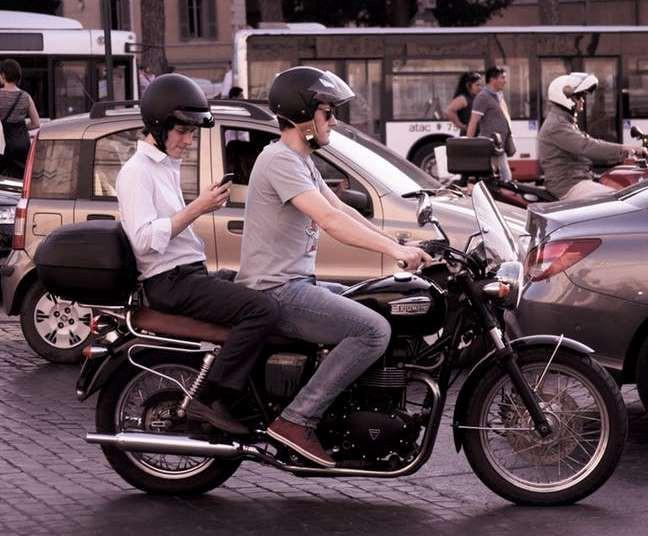helmet: (253, 63, 362, 161), (133, 72, 213, 162)
